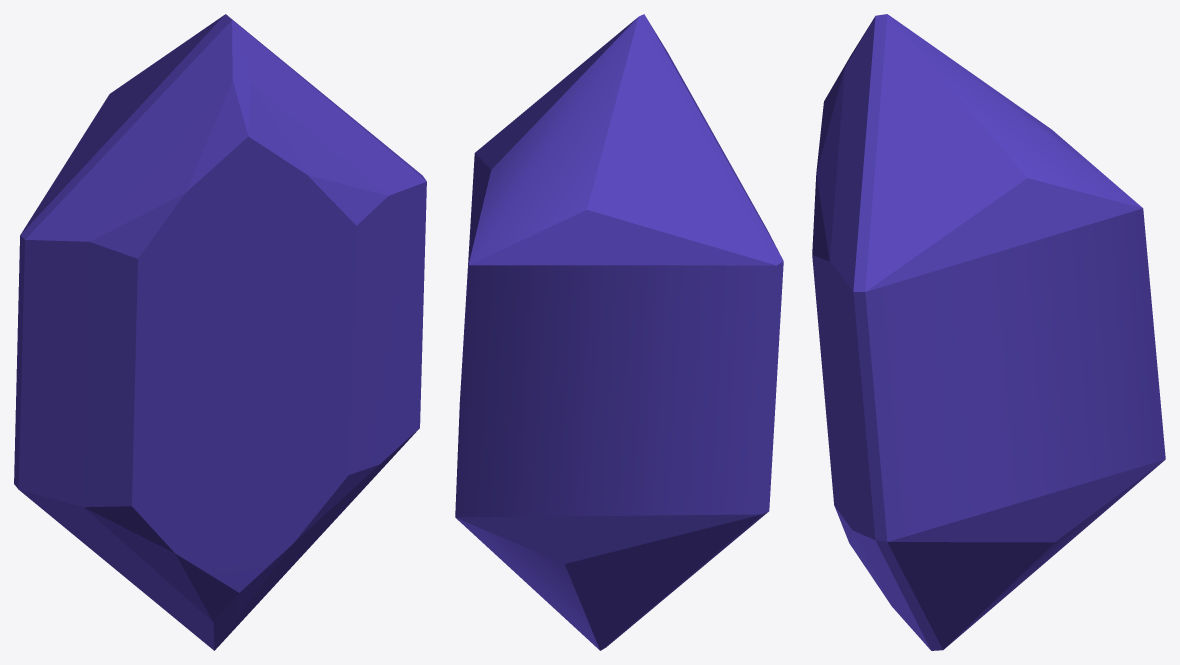
Rendered from TL1_8shapes_Hex_Classic_Stone.001 2.glb.
The picture shows the model from 3 angles, left to right: view 1: azimuth 30°, elevation 25°; view 2: azimuth 150°, elevation 25°; view 3: azimuth 270°, elevation 25°; orthographic projection. The views are drawn at different scales.
Visible parts, largest first — view 1: TL1_8shapes_Hex_Classic_Stone.001; view 2: TL1_8shapes_Hex_Classic_Stone.001; view 3: TL1_8shapes_Hex_Classic_Stone.001.
Part boxes in pixels (x1,y1,x2,y2): TL1_8shapes_Hex_Classic_Stone.001: (14, 14, 426, 650); TL1_8shapes_Hex_Classic_Stone.001: (455, 14, 783, 650); TL1_8shapes_Hex_Classic_Stone.001: (812, 14, 1165, 650).
Size of the model in its own units: 0.4432 by 0.7566 by 0.3839.
